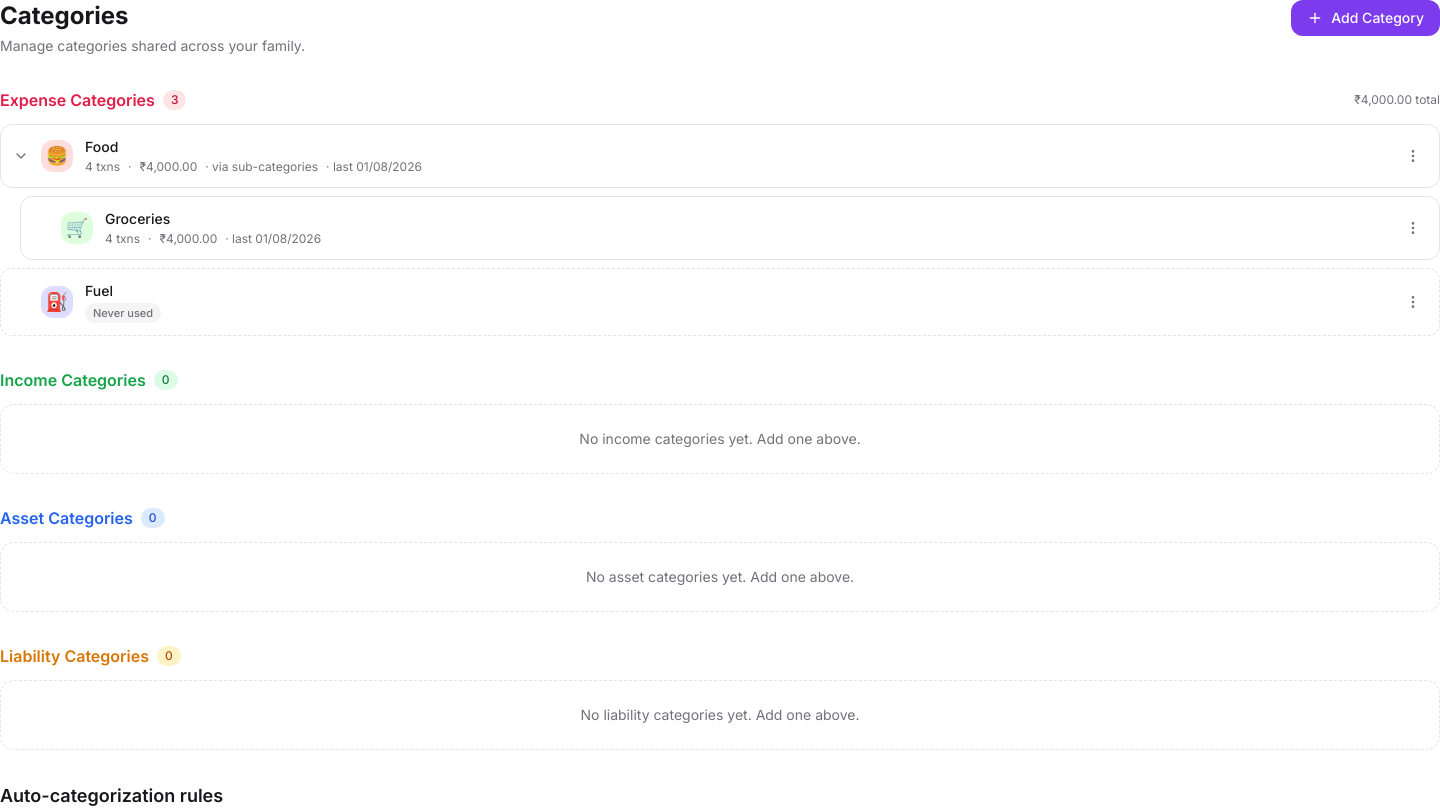
Test: Categories page — merge › cannot merge until a target is chosen
Expected: the text "Groceries" is shown, [105,209,170,229]
Click the button named "actions for groceries" at [1413, 228], box [1399,214,1427,242]
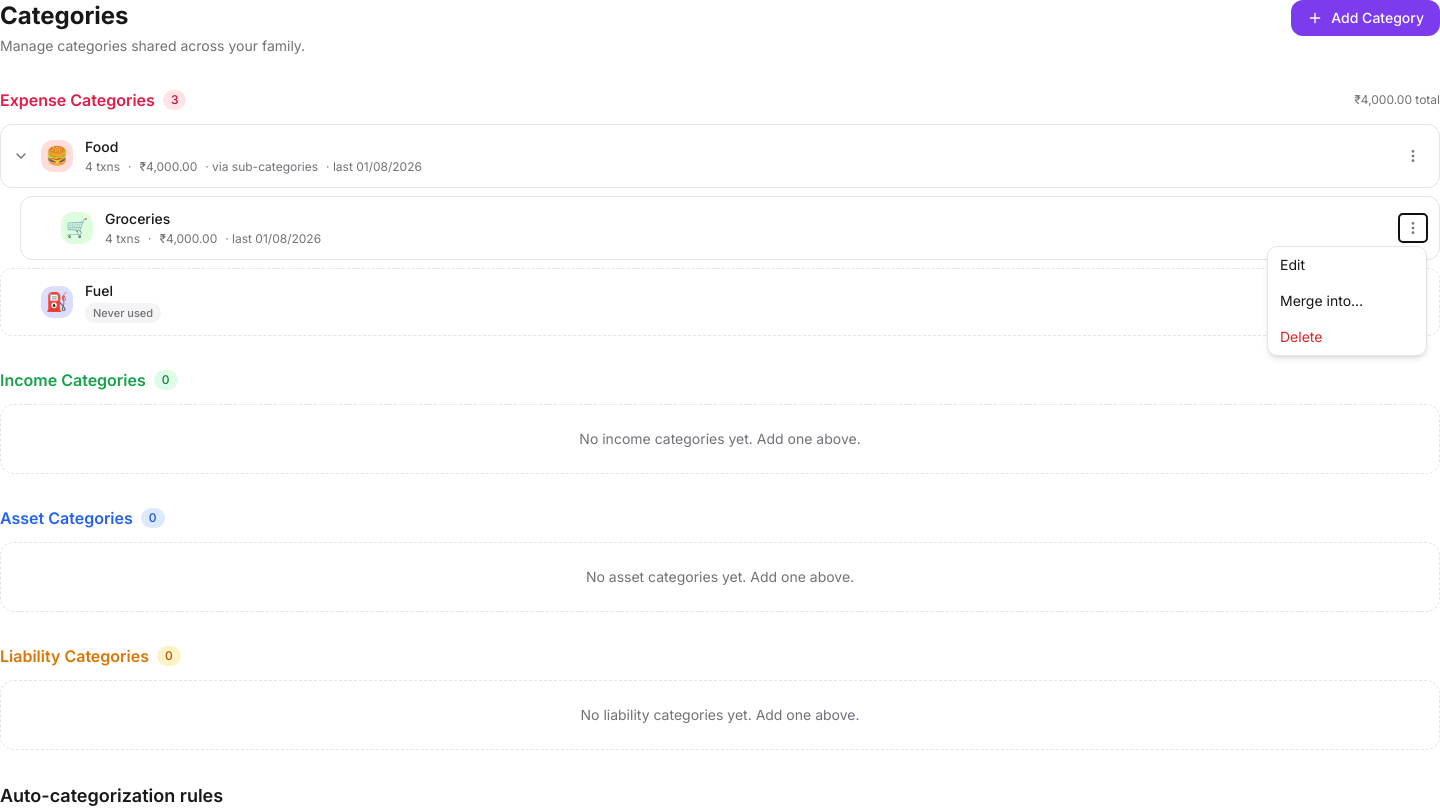
Click the button "Merge into…" at [1347, 301], box [1268,283,1426,319]
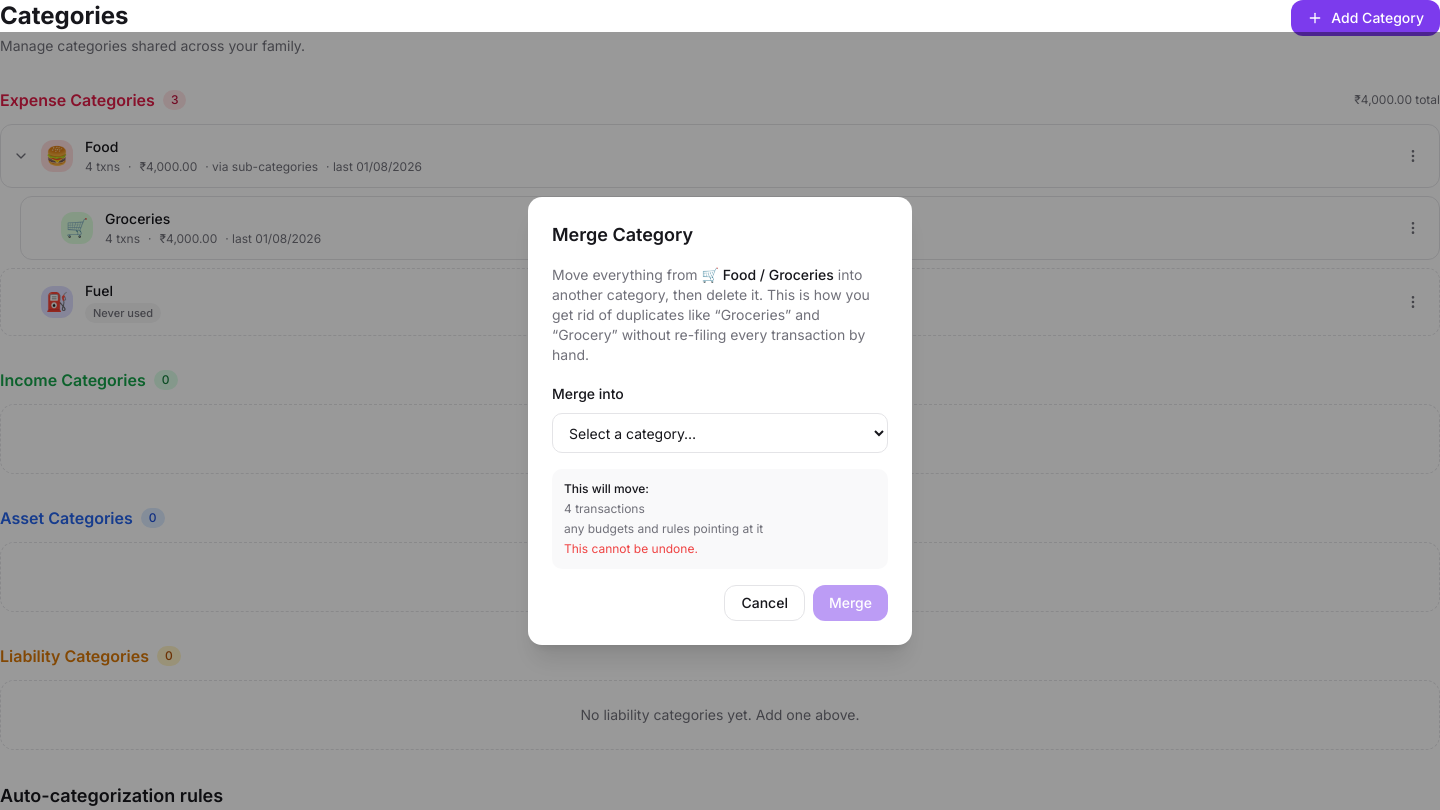
Now the button "Merge" is disabled, box [813,585,888,621]
